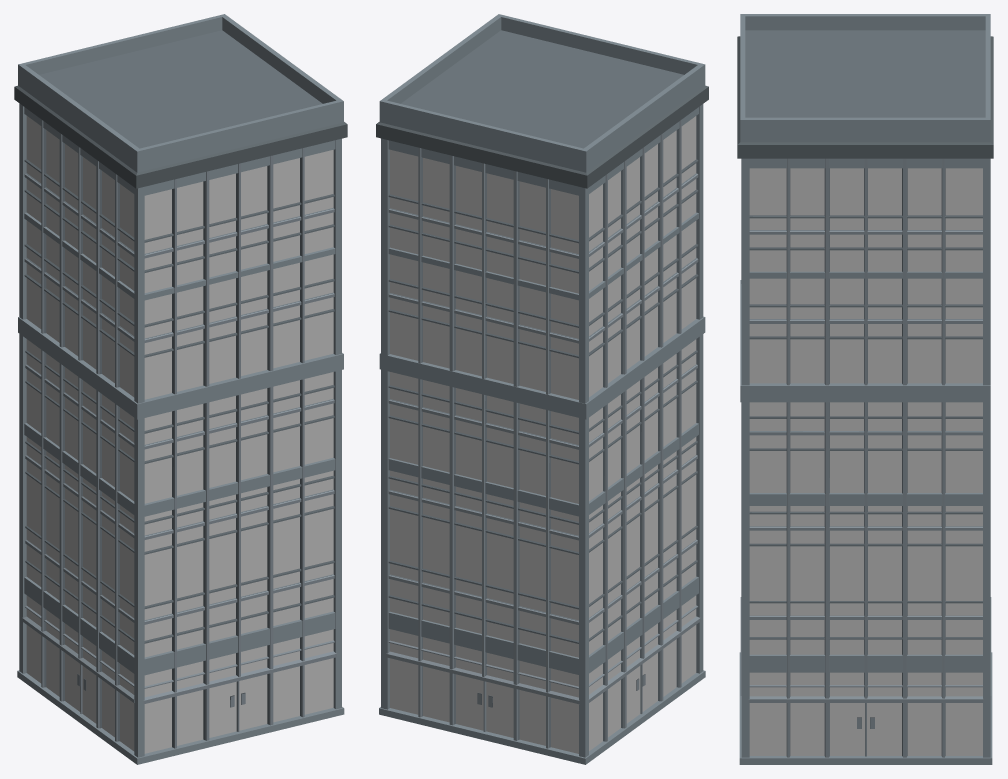
Rendered from SM_Gen_Bld_Background_06.fbx.
The picture shows the model from 3 angles, left to right: view 1: azimuth 30°, elevation 25°; view 2: azimuth 150°, elevation 25°; view 3: azimuth 270°, elevation 25°; orthographic projection. The views are drawn at different scales.
Visible parts, largest first — view 1: SM_Gen_Bld_Background_06; view 2: SM_Gen_Bld_Background_06; view 3: SM_Gen_Bld_Background_06.
Part boxes in pixels (left/top/right/bottom): SM_Gen_Bld_Background_06: left=14, top=14, right=347, bottom=764; SM_Gen_Bld_Background_06: left=376, top=14, right=708, bottom=764; SM_Gen_Bld_Background_06: left=737, top=14, right=993, bottom=764.
Size of the model in its own units: 827 by 2293 by 825.
